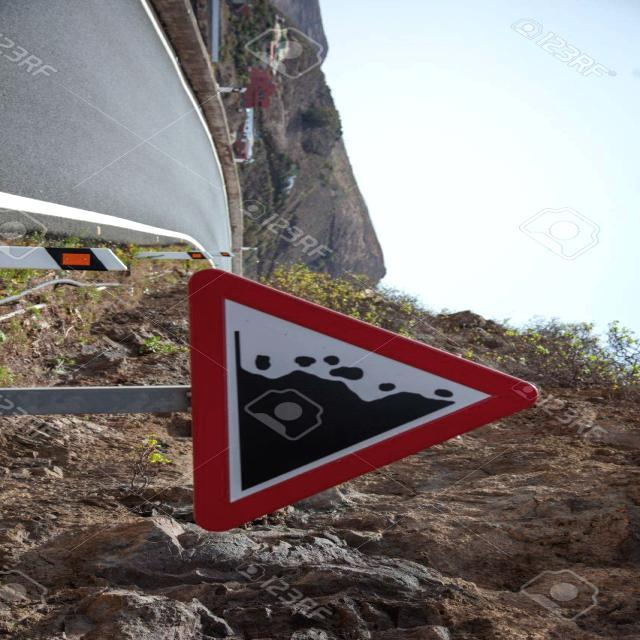Traffic sign: (184, 262, 544, 533)
